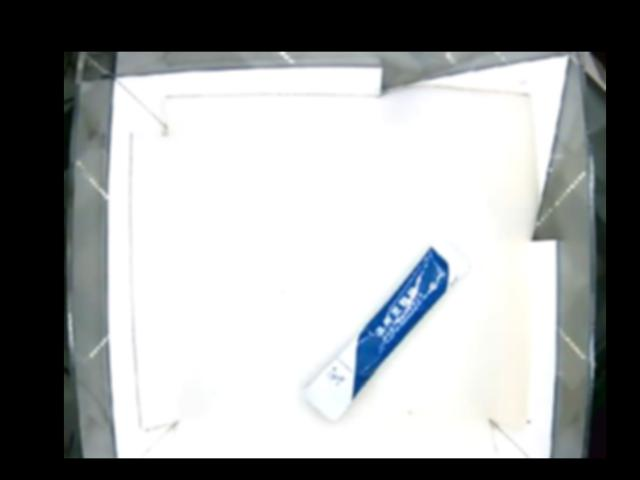Medicine: (304, 243, 468, 420)
